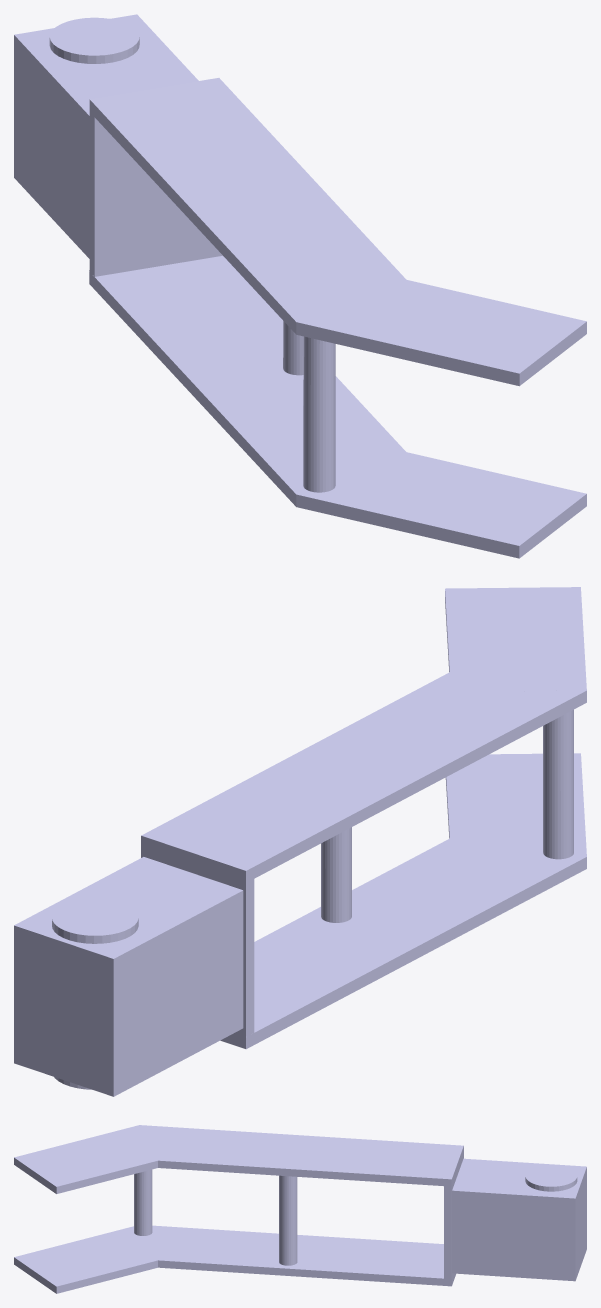
File: dbAlpha_URDF_dbAlpha_L2_link2__71__.dae
The picture shows the model from 3 angles, top to bottom: view 1: azimuth 30°, elevation 25°; view 2: azimuth 150°, elevation 25°; view 3: azimuth 270°, elevation 25°; orthographic projection. The views are drawn at different scales.
Visible parts, largest first — view 1: Node_0x7f7afcb58a60 (×9); view 2: Node_0x7f7afcb58a60 (×9); view 3: Node_0x7f7afcb58a60 (×9).
Boxes of the visible parts, x1,y1,x2,y2 form: Node_0x7f7afcb58a60 (×9): (14, 14, 586, 558); Node_0x7f7afcb58a60 (×9): (14, 587, 586, 1096); Node_0x7f7afcb58a60 (×9): (14, 1125, 586, 1293).
Size of the model in its own units: 0.0545 by 0.0441 by 0.2134.
